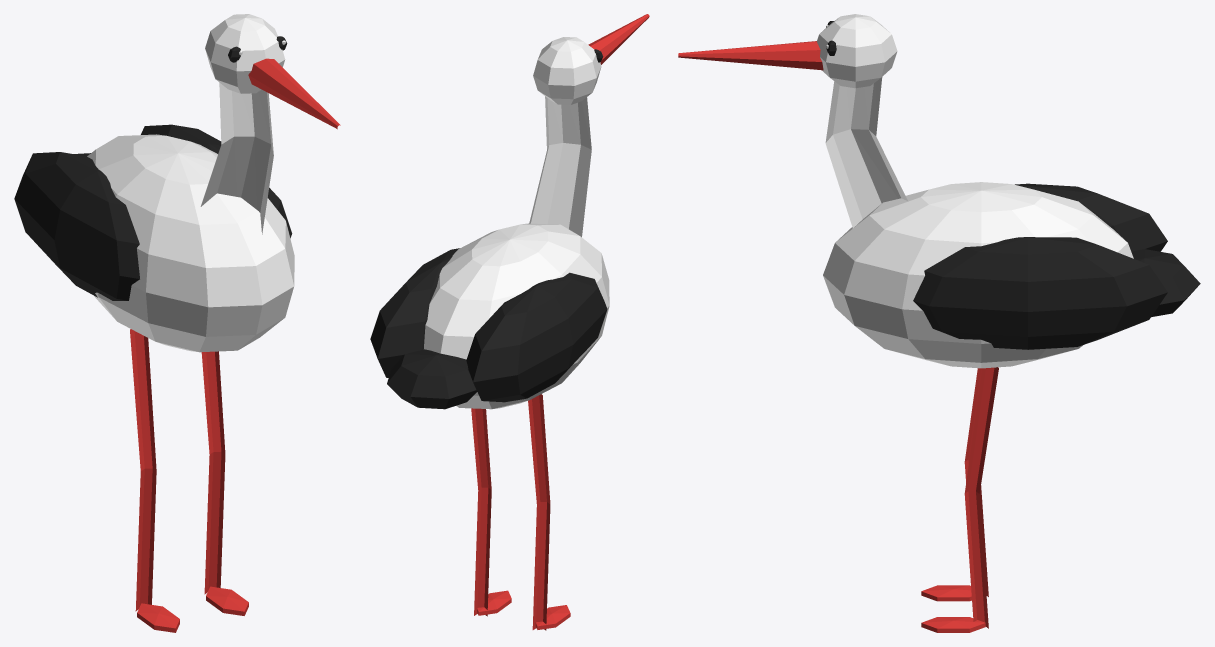
The model's file is stork.glb.
The picture shows the model from 3 angles, left to right: view 1: azimuth 30°, elevation 25°; view 2: azimuth 150°, elevation 25°; view 3: azimuth 270°, elevation 25°; orthographic projection. The views are drawn at different scales.
Parts seen in each view (by area): view 1: stork; view 2: stork; view 3: stork.
Boxes of the visible parts, x1,y1,x2,y2 form: stork: (14,14,340,632); stork: (370,14,649,630); stork: (678,14,1200,632).
Size of the model in its own units: 0.4599 by 1.41 by 1.12.
